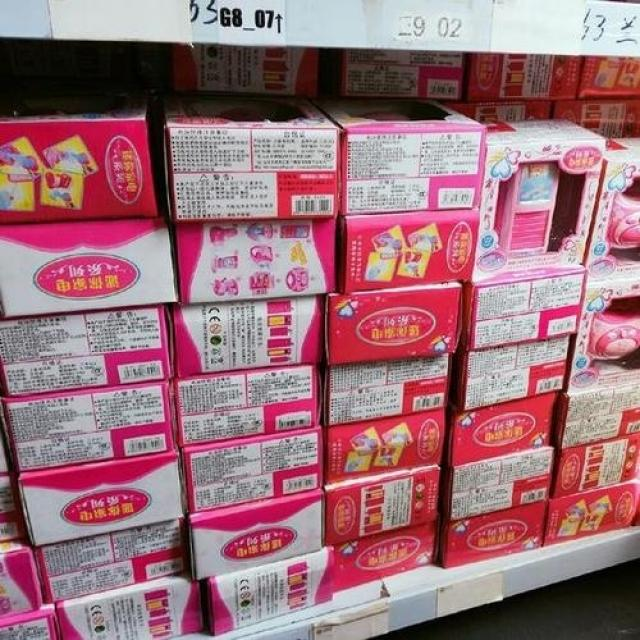box: (160, 96, 340, 221), (475, 119, 607, 283), (311, 95, 486, 216), (0, 93, 159, 223), (0, 216, 180, 317), (18, 448, 184, 549), (0, 303, 174, 397), (5, 380, 175, 472), (175, 219, 337, 306), (180, 426, 325, 515), (173, 294, 324, 378), (188, 490, 325, 581), (36, 520, 186, 603), (173, 365, 323, 445), (335, 209, 479, 292), (325, 282, 463, 367), (204, 545, 334, 635), (458, 266, 585, 351), (55, 572, 205, 640), (324, 352, 451, 428), (448, 335, 571, 412), (323, 408, 447, 484), (439, 444, 554, 524), (325, 465, 438, 545), (440, 392, 558, 467), (566, 278, 640, 393), (585, 136, 640, 282), (173, 44, 317, 96), (333, 521, 436, 593), (436, 503, 547, 567), (538, 480, 640, 549), (342, 49, 463, 100), (552, 431, 640, 499), (552, 384, 640, 451), (465, 52, 582, 101), (0, 536, 45, 618), (553, 97, 640, 137), (577, 56, 640, 97), (444, 100, 550, 122), (0, 603, 63, 640), (0, 474, 27, 543), (0, 406, 14, 475)
